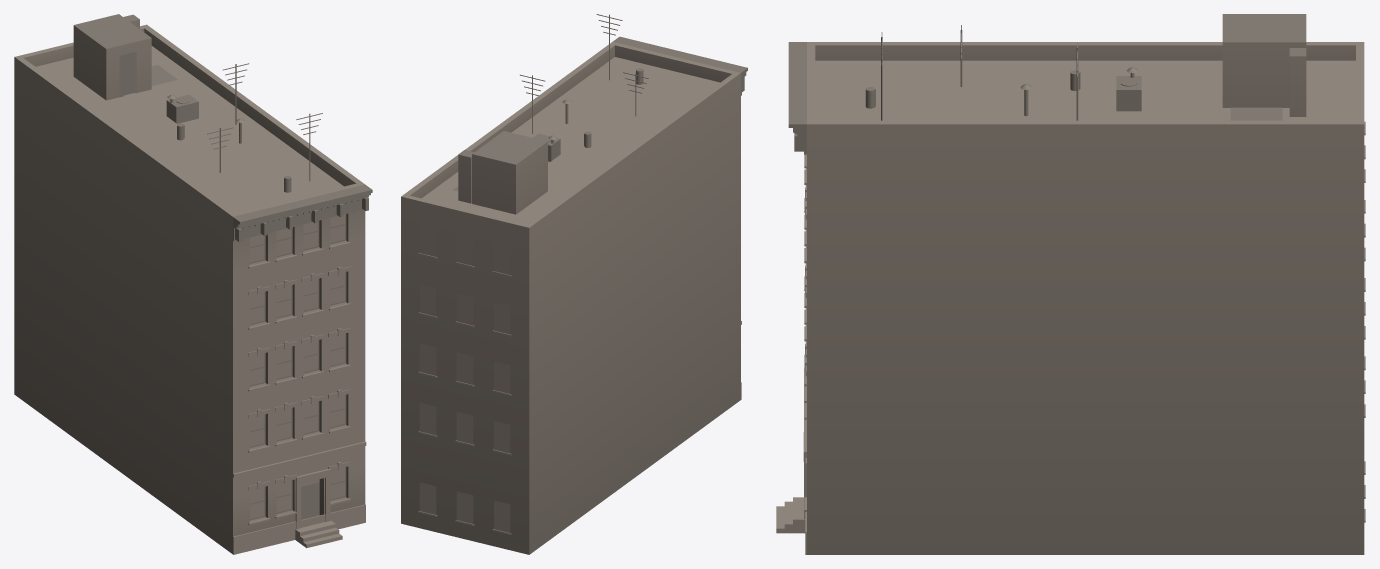
The model's file is rowhouse_b.glb.
3 views of the same model, side by side, from view 1: azimuth 30°, elevation 25°; view 2: azimuth 150°, elevation 25°; view 3: azimuth 270°, elevation 25° (orthographic). The views are drawn at different scales.
Parts seen in each view (by area): view 1: rowhouse_b; view 2: rowhouse_b; view 3: rowhouse_b.
Boxes of the visible parts, x1,y1,x2,y2 form: rowhouse_b: (14, 14, 372, 554); rowhouse_b: (401, 14, 747, 554); rowhouse_b: (776, 14, 1365, 554).
Bounding box in the file's own units: 7 × 19.85 × 21.15.
